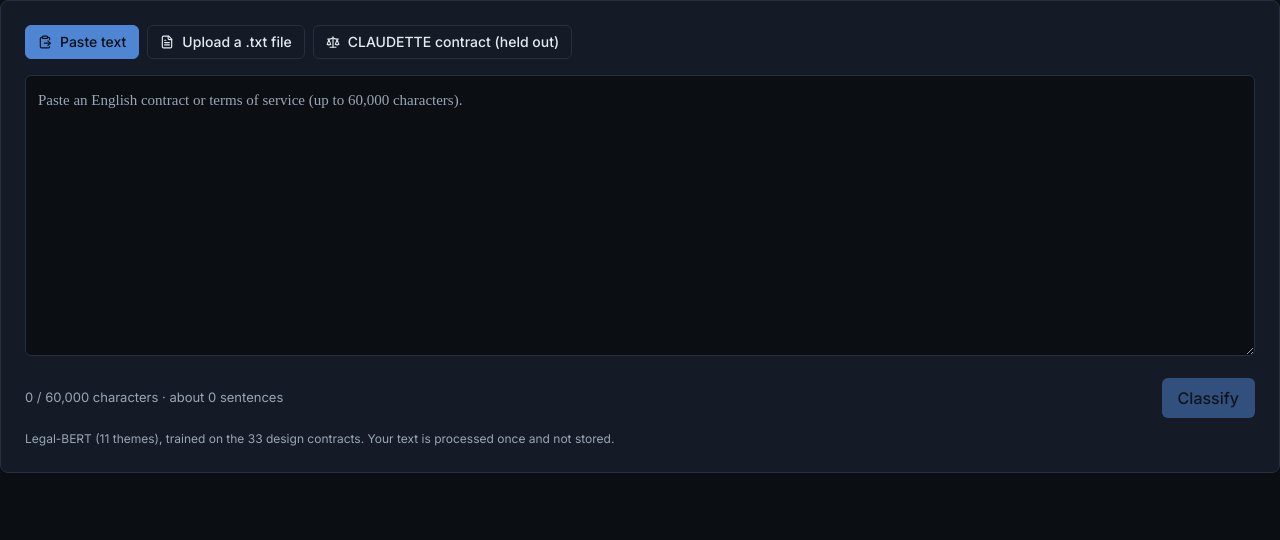
Test case: DemoPanel › turns a 429 into the quota message
Replace the text in the text box with test id "demo-textarea" with "We may terminate your account at any time without notice. All fees are due within thirty days and are not refundable." at {"x": 640, "y": 216}, box [25,75,1255,356]
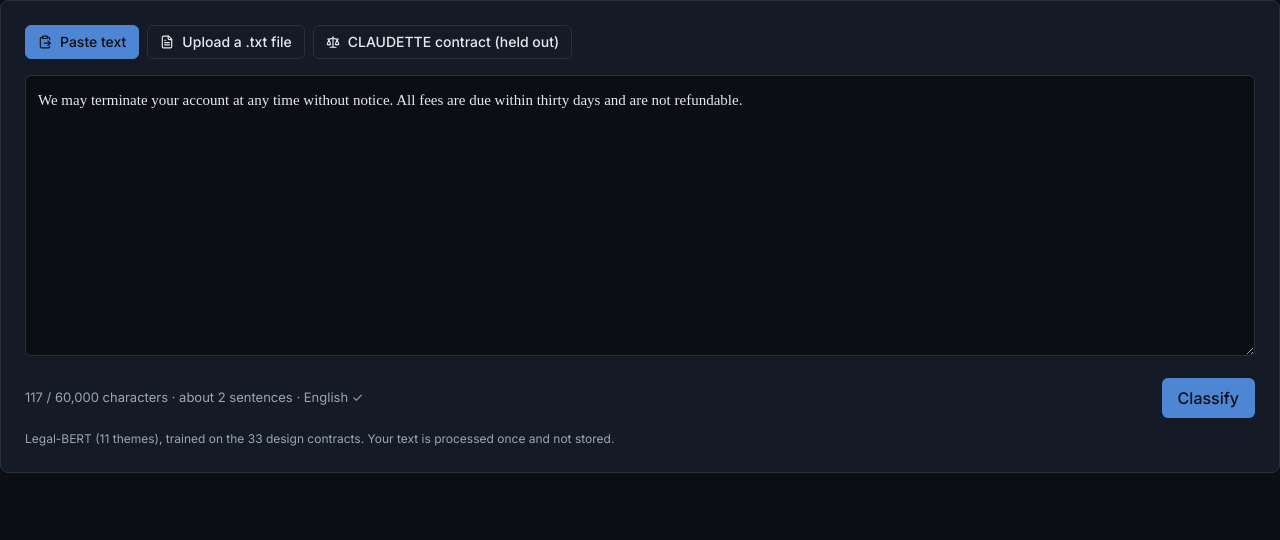
Click the button with test id "demo-classify".
click(1208, 398)  # box [1162,378,1255,418]
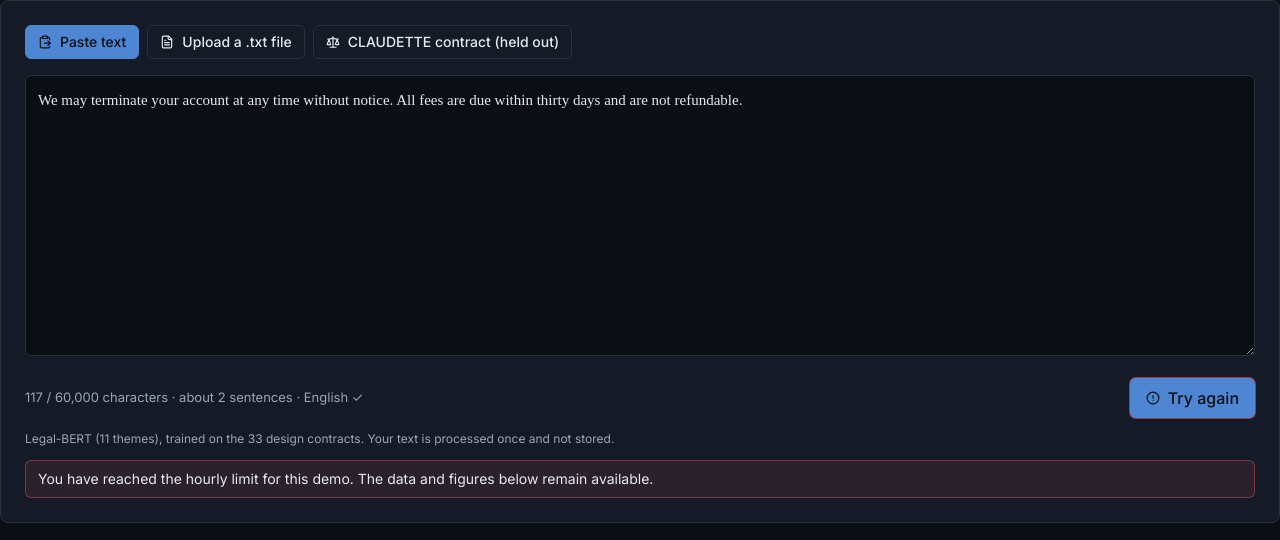
expect the message with test id "demo-error" shows "hourly limit": met, box [38,470,653,487]
expect the button with test id "demo-classify" reads "Try again": met, box [1130,378,1255,418]
